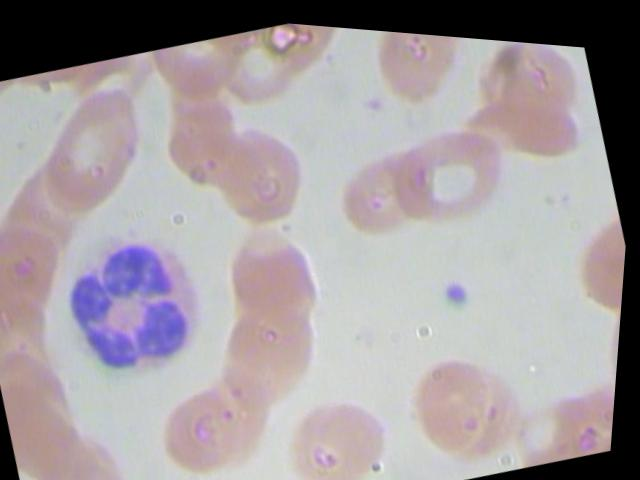Platelets: (431, 262, 496, 314)
Red Blood Cells: (7, 66, 175, 229), (189, 94, 341, 245), (199, 201, 353, 346), (195, 276, 349, 421), (394, 326, 548, 471), (140, 344, 295, 479), (380, 104, 528, 234), (265, 362, 420, 479), (454, 61, 598, 185), (0, 129, 114, 280), (453, 29, 601, 137), (323, 129, 448, 246), (0, 262, 95, 410), (0, 196, 89, 345), (153, 73, 263, 193), (0, 332, 100, 457), (348, 23, 482, 116), (205, 13, 318, 114), (5, 377, 112, 479), (140, 25, 248, 105), (39, 414, 152, 479)
White Blood Cells: (45, 212, 236, 395)
